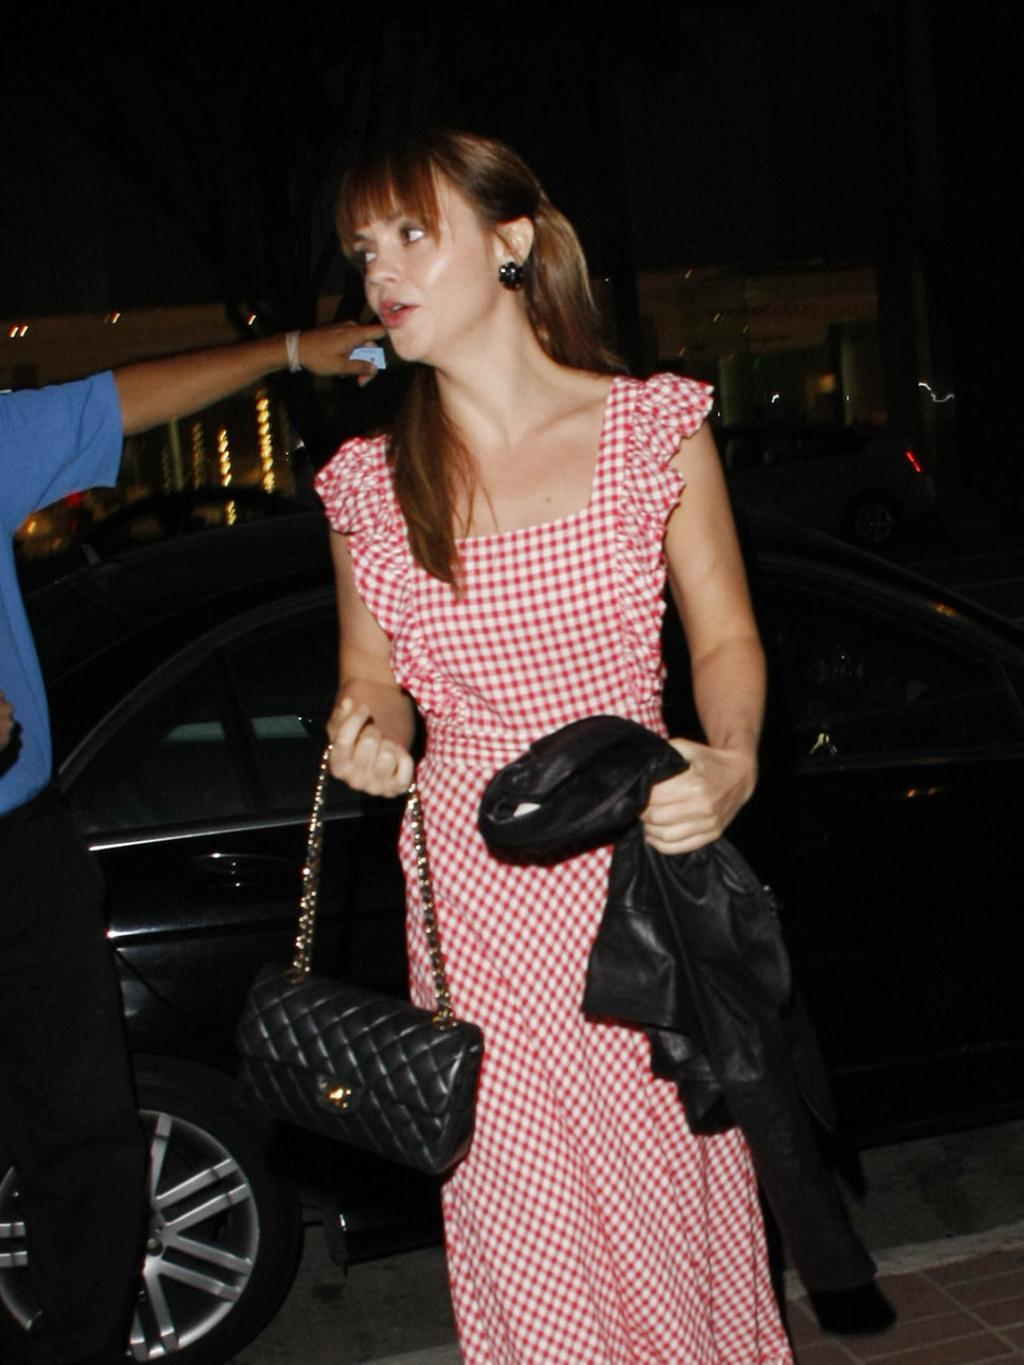face: (357, 168, 496, 357)
